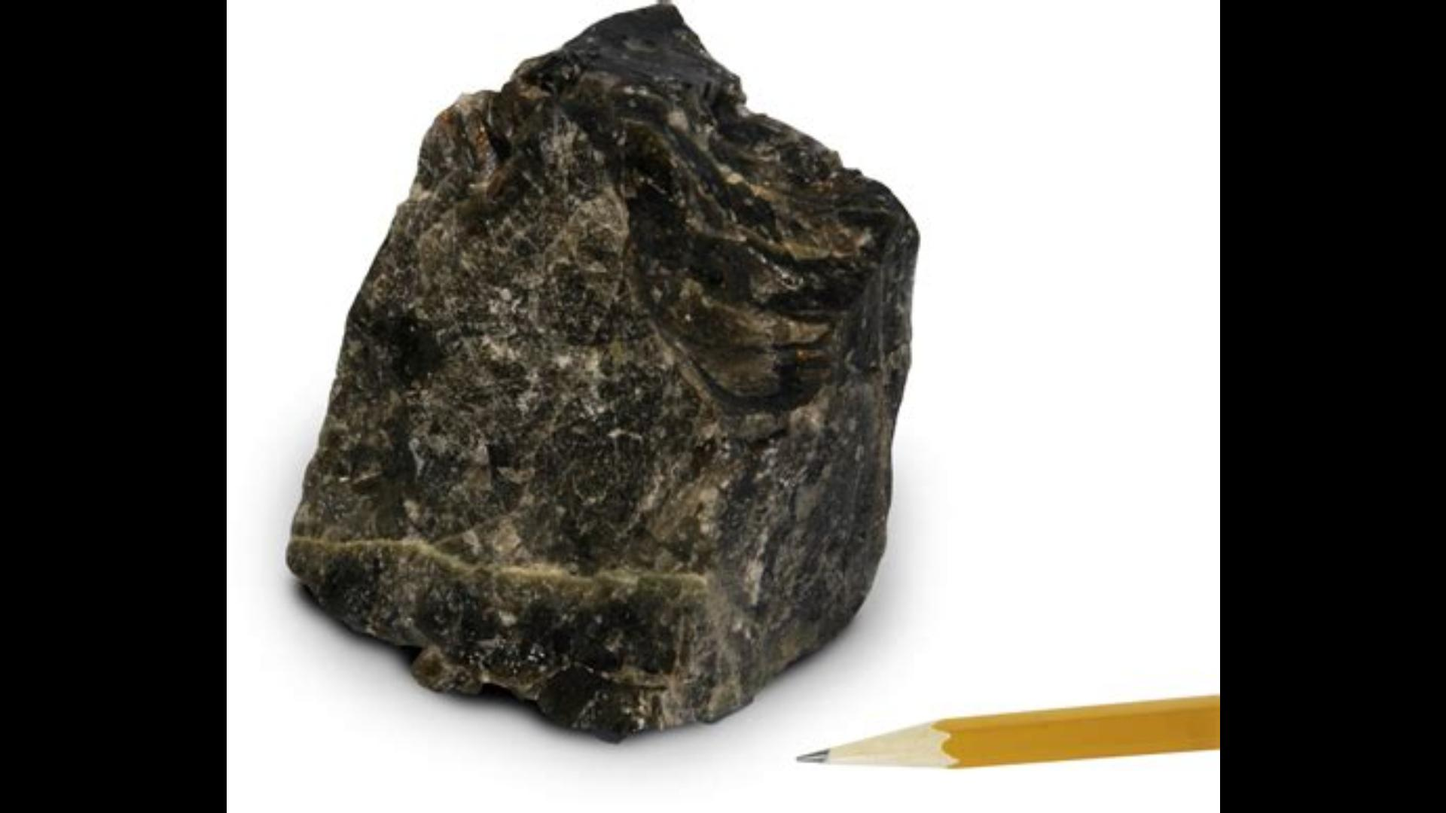rock: (287, 6, 907, 738)
